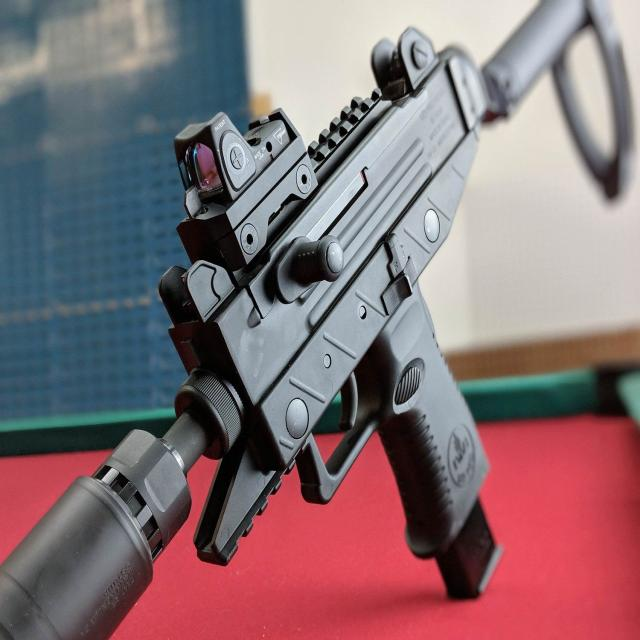SMG: (0, 0, 632, 640)
